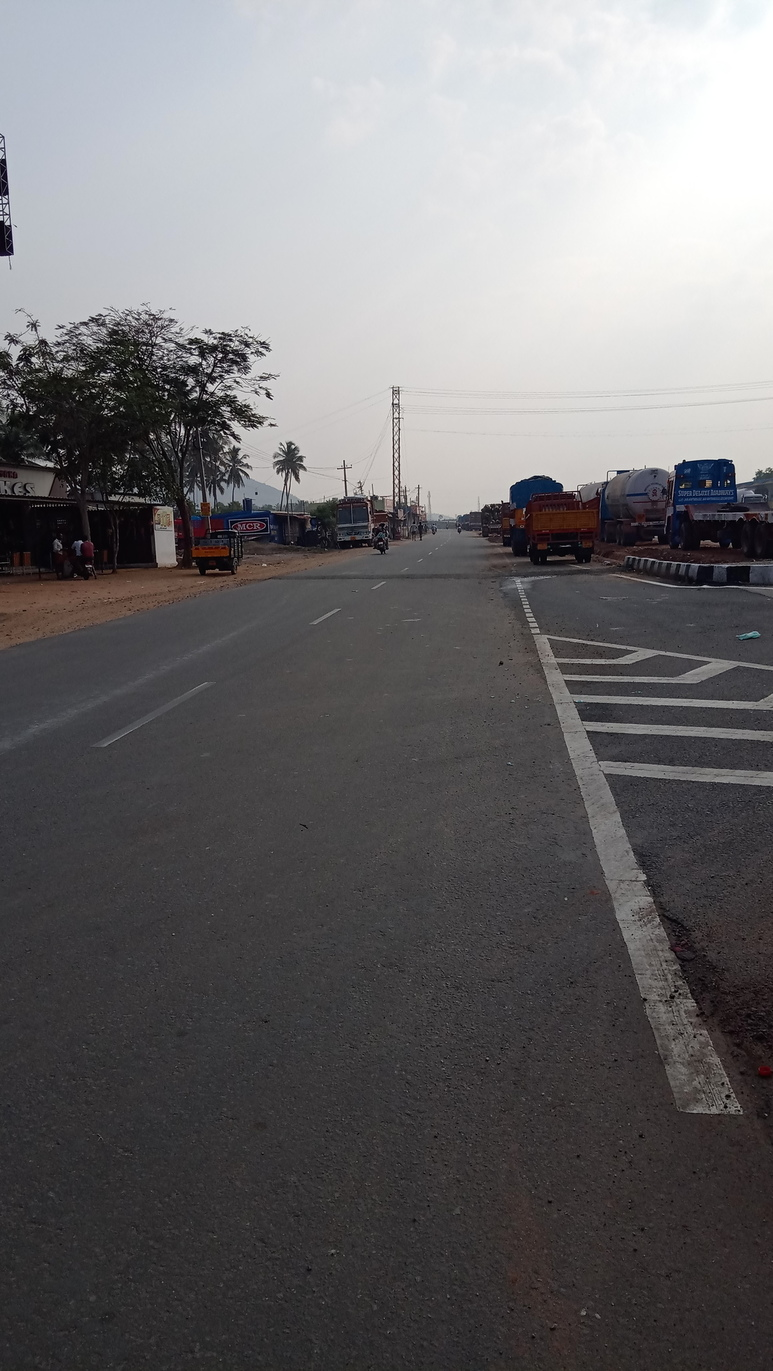bump: (239, 566, 635, 585)
